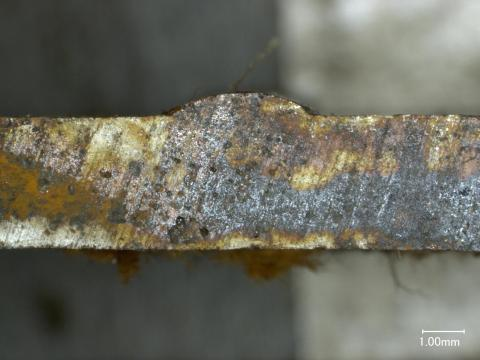test: (166, 95, 312, 116)
